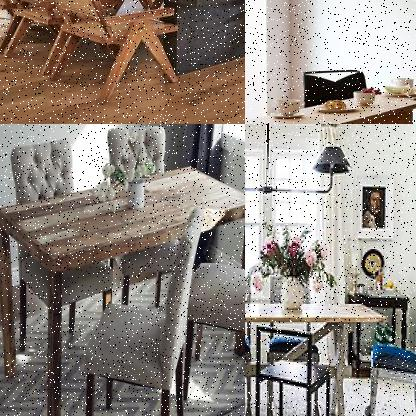table: (0, 161, 244, 415), (0, 0, 244, 84), (245, 298, 390, 415), (245, 71, 415, 123)
